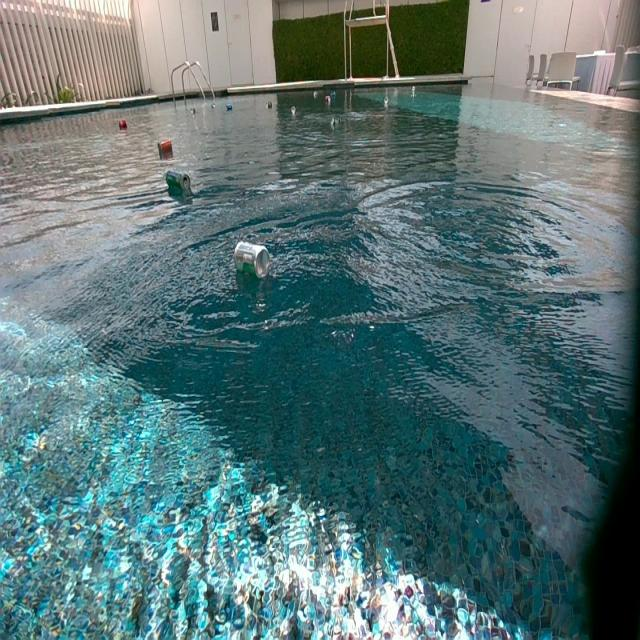Cans: (235, 245, 270, 282), (166, 170, 190, 192), (159, 139, 173, 153), (330, 115, 339, 128), (120, 121, 129, 132), (118, 118, 126, 129), (224, 103, 233, 112), (323, 97, 332, 106), (411, 86, 417, 98), (328, 92, 336, 100), (312, 91, 320, 99), (189, 108, 196, 116), (268, 102, 274, 110), (290, 106, 296, 114), (384, 97, 389, 105), (211, 104, 216, 110)
